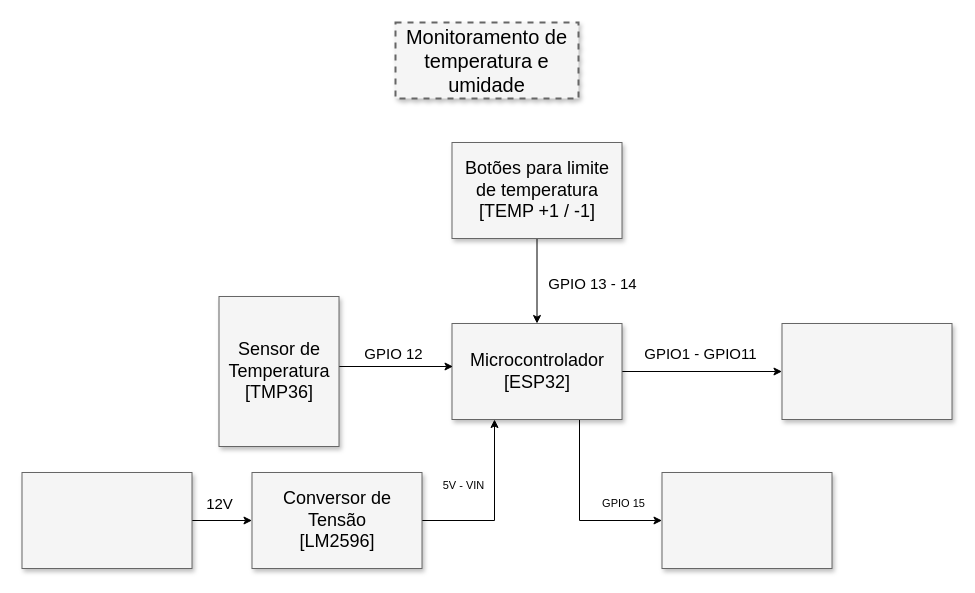
Some shapes in this 975 by 593 pixel diagram are drawn without their labels. The centre of each missing label's shape, as x and y in pixels:
Buzzer [Ativo]: the point at 747,522
Display de 7 segmentos de 3 dígitos [5631AS]: the point at 867,372
LiFePO4 4S: the point at 107,522
